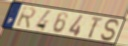4: (66, 14, 84, 38), (34, 10, 52, 33)
6: (52, 12, 70, 35)
R: (15, 6, 38, 29)
S: (100, 18, 121, 43)
T: (86, 16, 104, 40)
